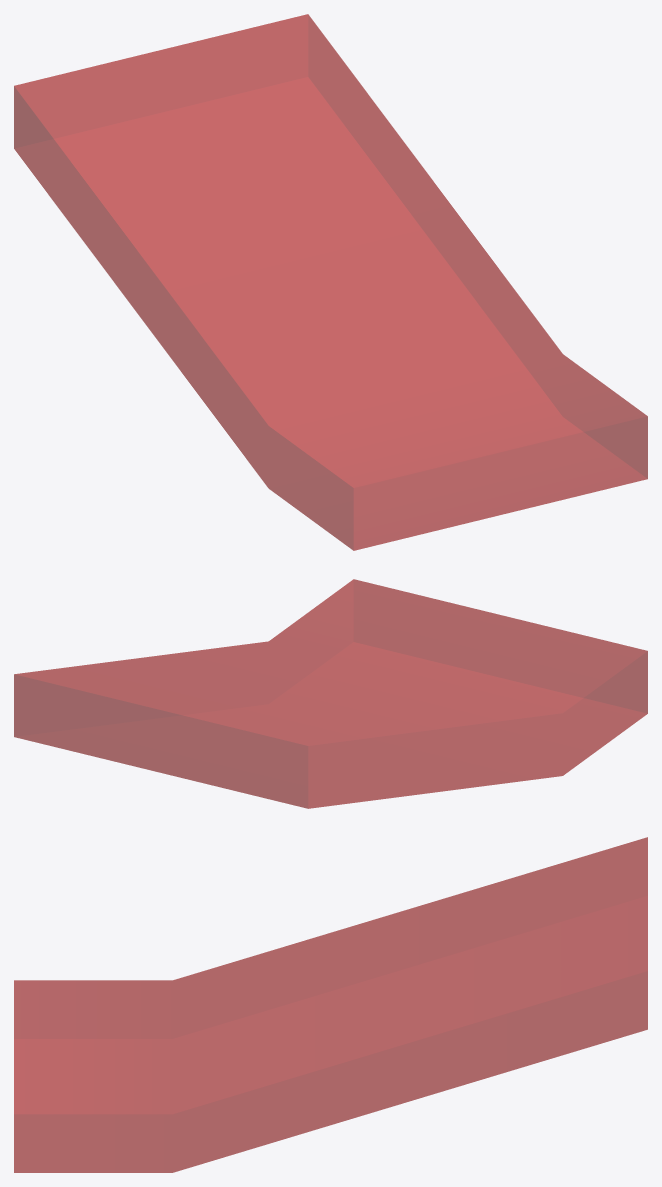
The model's file is SM_Env_Motorway_Ramp_Middle_01_Collision.fbx.
The picture shows the model from 3 angles, top to bottom: view 1: azimuth 30°, elevation 25°; view 2: azimuth 150°, elevation 25°; view 3: azimuth 270°, elevation 25°; orthographic projection. The views are drawn at different scales.
Parts seen in each view (by area): view 1: SM_Env_Motorway_Ramp_Middle_01_Collision; view 2: SM_Env_Motorway_Ramp_Middle_01_Collision; view 3: SM_Env_Motorway_Ramp_Middle_01_Collision.
Part boxes in pixels (x1,y1,x2,y2): SM_Env_Motorway_Ramp_Middle_01_Collision: (14,14,647,550); SM_Env_Motorway_Ramp_Middle_01_Collision: (14,579,647,808); SM_Env_Motorway_Ramp_Middle_01_Collision: (14,837,647,1172).
Bounding box in the file's own units: 500 × 351 × 1000.
